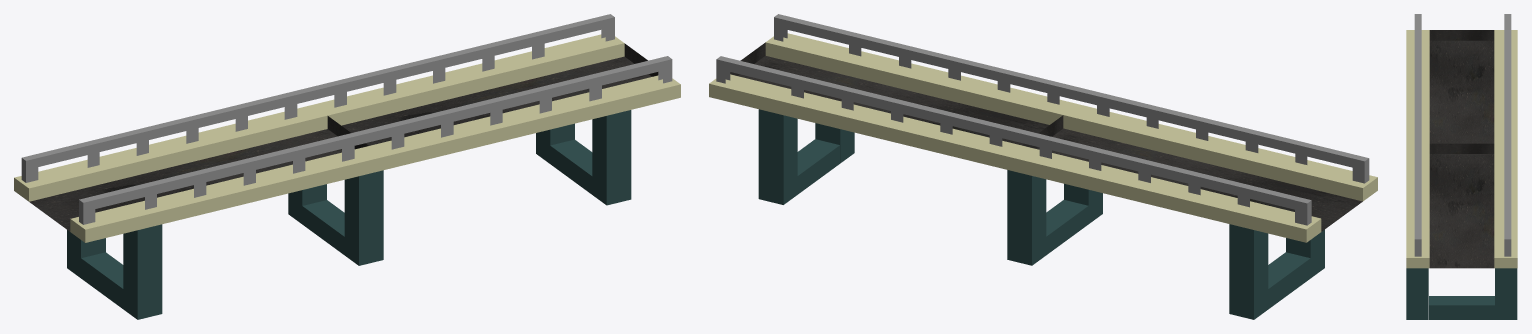
File: low_poly_bridge.glb
The picture shows the model from 3 angles, left to right: view 1: azimuth 30°, elevation 25°; view 2: azimuth 150°, elevation 25°; view 3: azimuth 270°, elevation 25°; orthographic projection. The views are drawn at different scales.
Parts seen in each view (by area): view 1: Cube.007, Cube.006, road.001, road.002, road.005, road.004, road, road.003, Cube.001, Cube.004, Cube, Cube.003 (+2 smaller); view 2: Cube.006, Cube.007, road.002, road.001, road.005, road.004, Cube.003, road, Cube.005, Cube.002, road.003, Cube.001 (+2 smaller); view 3: road.003, road, Cube.005, road.004, road.005, road.001, road.002, Cube.006, Cube.007, Cube.004.
Boxes of the visible parts, box(x1,y1,x2,y2) form: Cube.007: box(21, 14, 614, 182); Cube.006: box(79, 56, 672, 224); road.001: box(14, 105, 327, 201); road.002: box(70, 146, 383, 242); road.005: box(369, 75, 680, 170); road.004: box(313, 34, 624, 128); road: box(29, 116, 368, 231); road.003: box(342, 43, 658, 145); Cube.001: box(123, 224, 162, 319); Cube.004: box(592, 110, 631, 205); Cube: box(344, 170, 383, 265); Cube.003: box(67, 230, 123, 308); Cube.006: box(774, 14, 1369, 183); Cube.007: box(716, 56, 1311, 225); road.002: box(1065, 104, 1377, 201); road.001: box(1007, 145, 1321, 242); road.005: box(765, 33, 1079, 128); road.004: box(709, 74, 1021, 169); Cube.003: box(1229, 224, 1310, 319); road: box(1022, 115, 1362, 231); Cube.005: box(758, 109, 839, 204); Cube.002: box(1007, 170, 1088, 265); road.003: box(730, 42, 1049, 148); Cube.001: box(1286, 229, 1324, 277); road.003: box(1429, 143, 1494, 268); road: box(1429, 30, 1494, 154); Cube.005: box(1429, 268, 1517, 319); road.004: box(1494, 144, 1517, 268); road.005: box(1406, 144, 1429, 268); road.001: box(1494, 30, 1517, 144); road.002: box(1406, 30, 1429, 144); Cube.006: box(1414, 14, 1421, 256); Cube.007: box(1504, 14, 1511, 256); Cube.004: box(1406, 268, 1428, 319).
Bounding box in the file's own units: 4823 × 970 × 998.
Materials: 4 (1 with a texture image).
